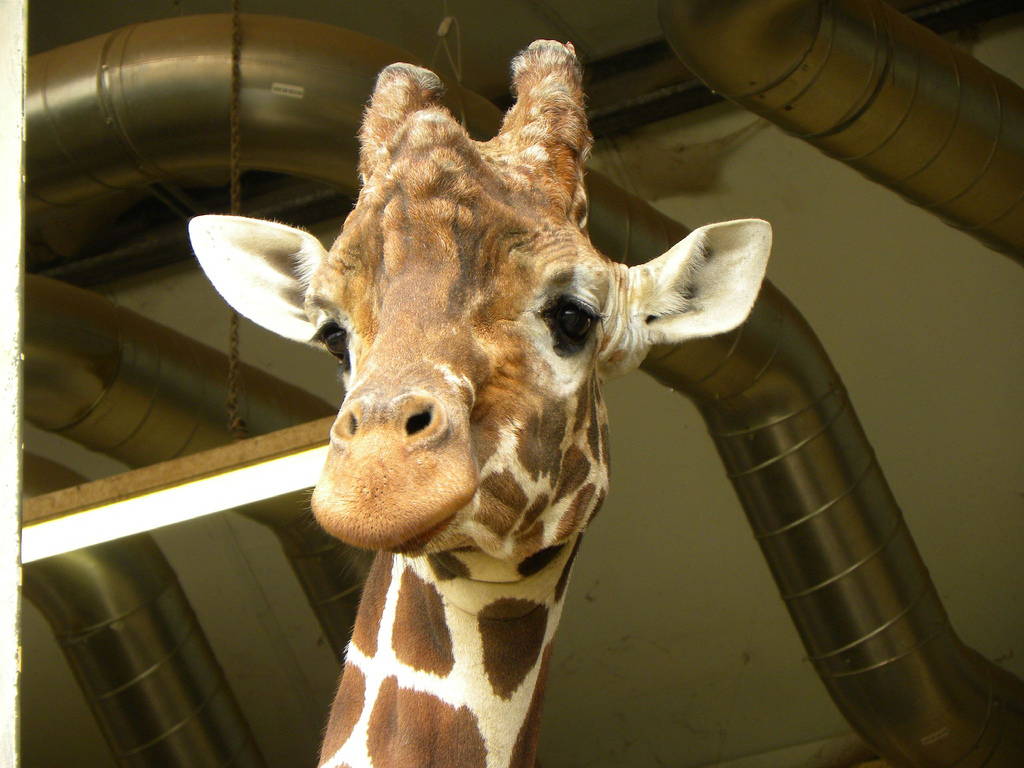giraffe: (200, 38, 756, 766)
